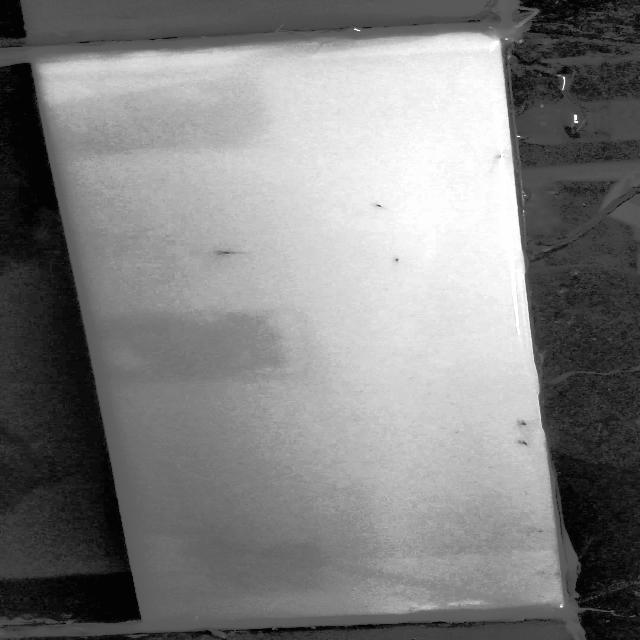shrimp: (213, 248, 250, 258), (516, 436, 532, 447), (374, 198, 388, 210), (532, 528, 552, 536), (517, 422, 535, 430), (390, 255, 406, 263)
